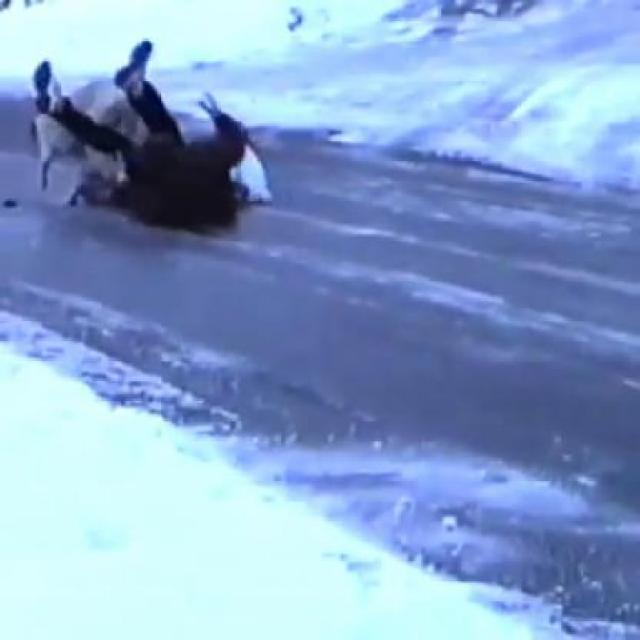fall: (21, 44, 268, 230)
